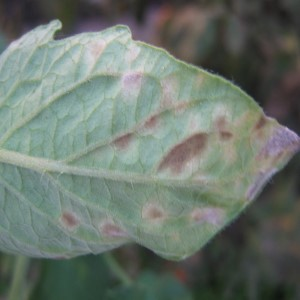cladosporium: (158, 133, 212, 174), (60, 212, 81, 230), (99, 221, 123, 235), (112, 134, 132, 149), (253, 115, 267, 135), (214, 115, 230, 130), (146, 207, 164, 220), (143, 116, 158, 129), (219, 129, 235, 141)
